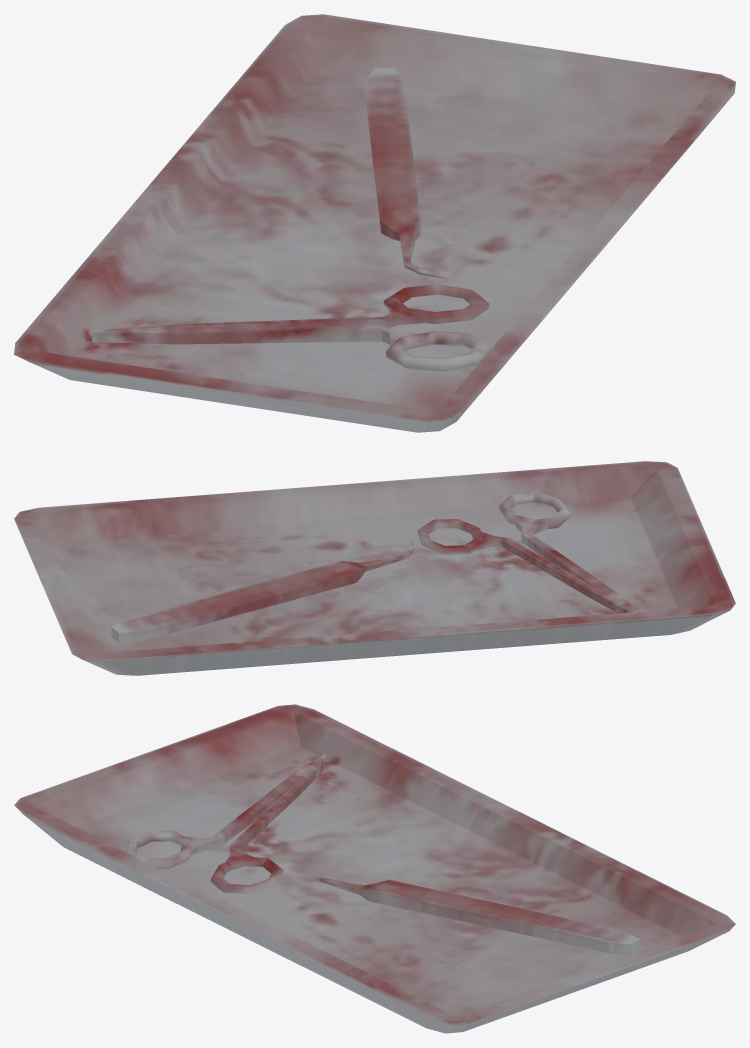
File: instrument_tray.glb
3 views of the same model, one above another, from view 1: azimuth 30°, elevation 25°; view 2: azimuth 150°, elevation 25°; view 3: azimuth 270°, elevation 25° (orthographic). The views are drawn at different scales.
Parts seen in each view (by area): view 1: instrument_tray_0, instrument_tray_1, instrument_tray_2; view 2: instrument_tray_0, instrument_tray_2, instrument_tray_1; view 3: instrument_tray_0, instrument_tray_2, instrument_tray_1.
Part boxes in pixels (bbox=[...]): instrument_tray_0: bbox=[14, 14, 735, 432]; instrument_tray_1: bbox=[92, 284, 491, 371]; instrument_tray_2: bbox=[365, 68, 446, 278]; instrument_tray_0: bbox=[14, 461, 735, 675]; instrument_tray_2: bbox=[111, 539, 414, 642]; instrument_tray_1: bbox=[417, 492, 638, 613]; instrument_tray_0: bbox=[14, 704, 735, 1033]; instrument_tray_2: bbox=[278, 876, 639, 955]; instrument_tray_1: bbox=[126, 754, 325, 893].
Bounding box in the file's own units: 0.451 × 0.0177 × 0.4294.
1 material, 1 textured.
